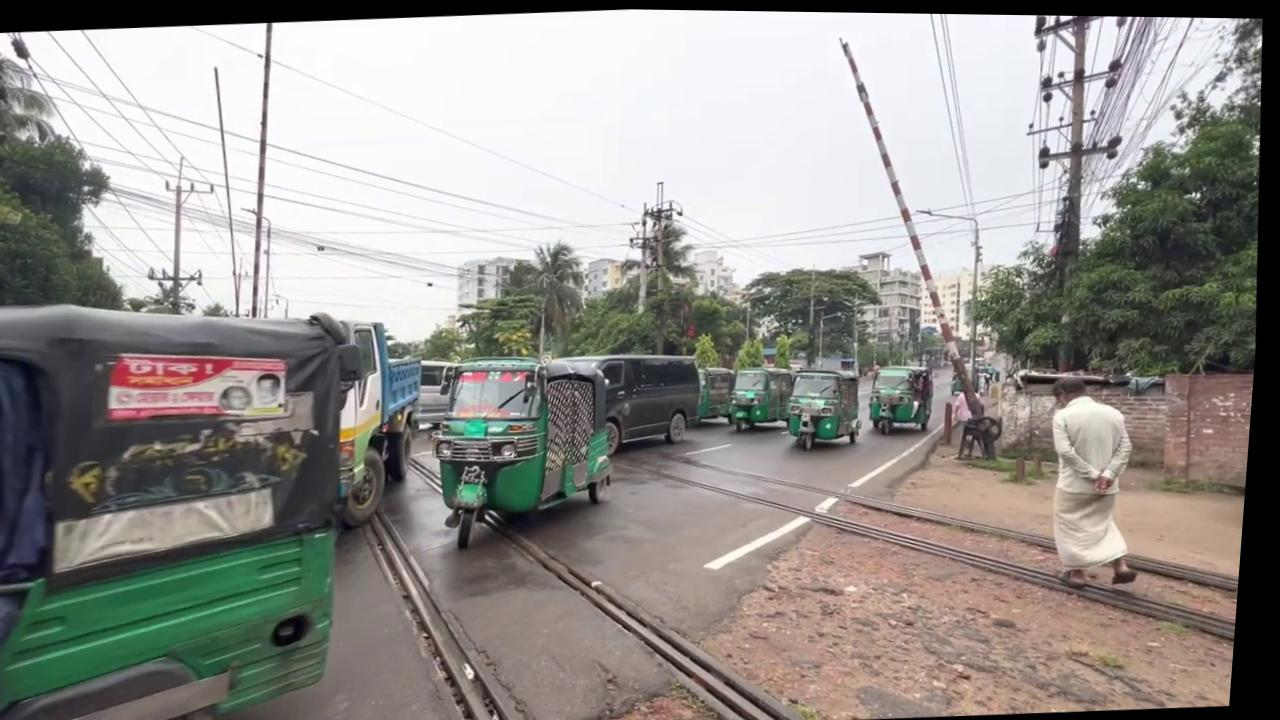Fence: (1044, 369, 1158, 584)
Garbage: (1008, 12, 1156, 371), (1042, 12, 1107, 370), (905, 201, 994, 391), (199, 63, 259, 316), (238, 21, 289, 317)
Motorcycle: (607, 411, 1257, 675), (350, 430, 821, 720)
Railroad-crossing: (737, 259, 891, 368)
Rickshaw: (0, 283, 422, 720), (425, 345, 630, 550), (302, 306, 437, 530)
